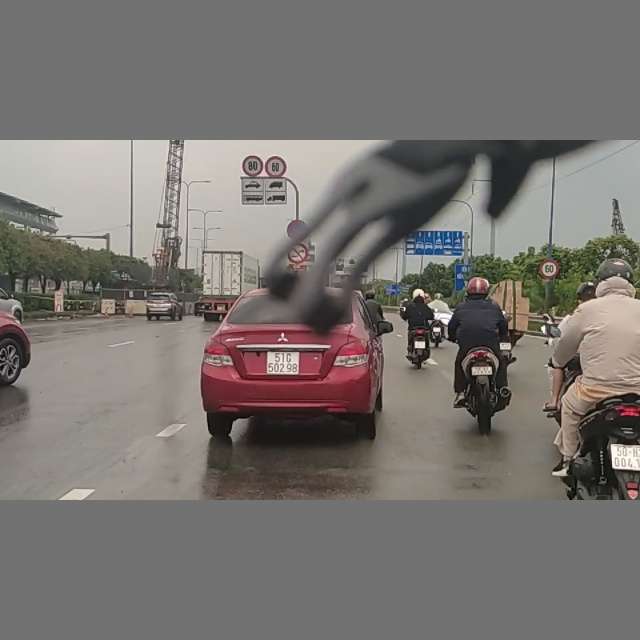P.127*60: (265, 156, 287, 177)
P.127*80: (242, 155, 263, 177)
